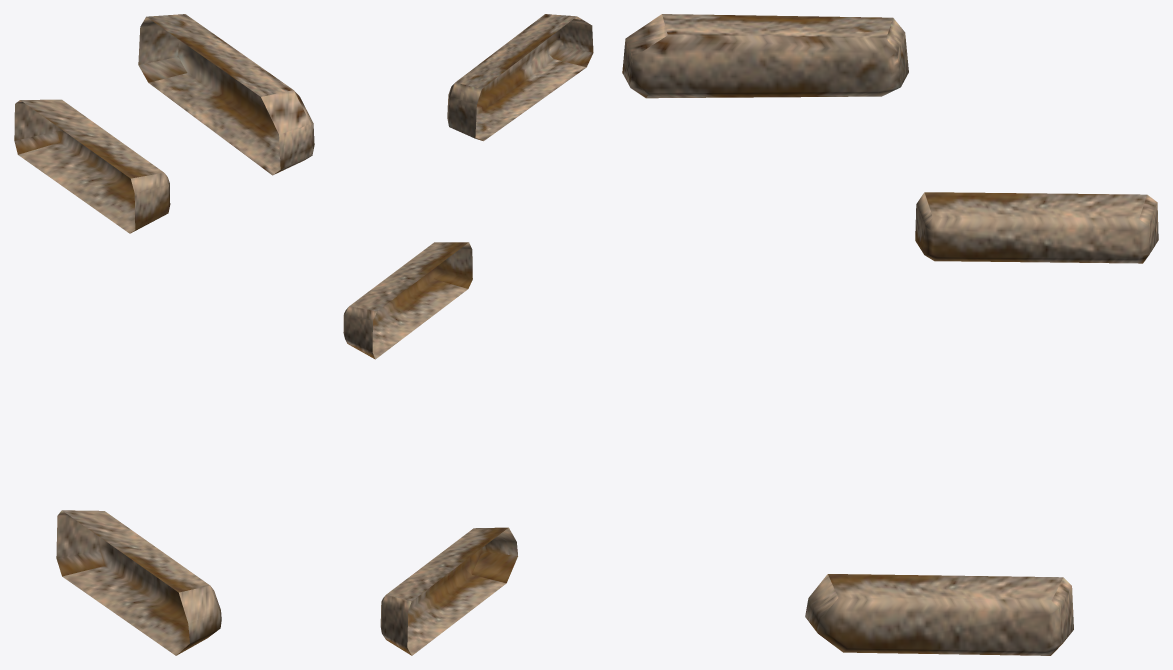
File: lower_city_wall_climb_01.fbx
3 views of the same model, side by side, from view 1: azimuth 30°, elevation 25°; view 2: azimuth 150°, elevation 25°; view 3: azimuth 270°, elevation 25° (orthographic). The views are drawn at different scales.
Visible parts, largest first — view 1: lower_city_wall_climb_01; view 2: lower_city_wall_climb_01; view 3: lower_city_wall_climb_01.
Boxes of the visible parts, x1=… form: lower_city_wall_climb_01: x1=14, y1=14, x2=314, y2=655; lower_city_wall_climb_01: x1=343, y1=14, x2=593, y2=655; lower_city_wall_climb_01: x1=622, y1=14, x2=1158, y2=655.
Size of the model in its own units: 0.1207 by 1.65 by 1.27.
